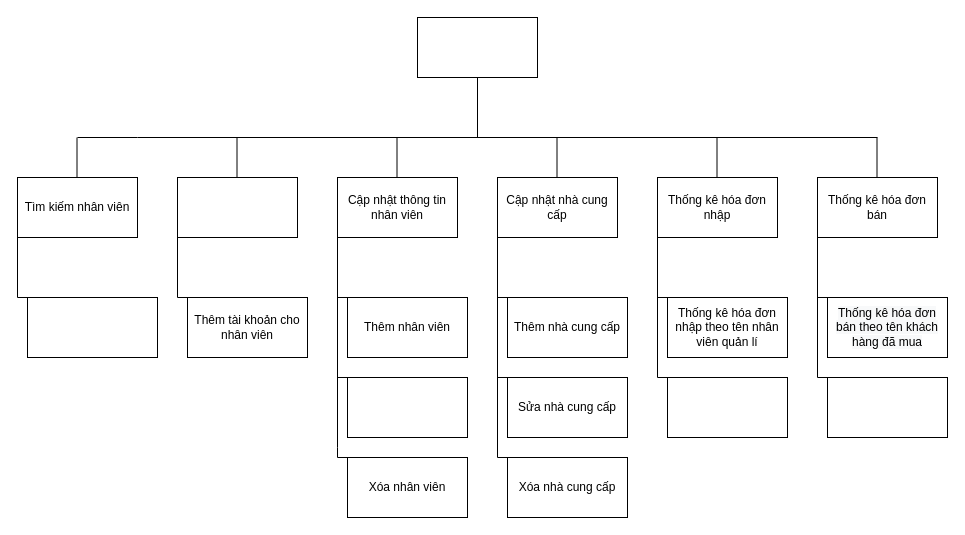
The diagram is 965 pixels wide and 535 high, and some of its shapes have lost their labels. The box of each missing label's shape, as (x1, y1, x2, y2) in pixels:
Quản lý cửa hàng máy tính: (416, 16, 538, 78)
Sửa nhân viên: (346, 376, 468, 438)
Thống kê hóa đơn bán theo ngày: (826, 376, 948, 438)
Thống kê hóa đơn nhập theo ngày: (666, 376, 788, 438)
Tìm kiếm nhân viên theo tên: (26, 296, 158, 358)
Tạo tài khoản mới: (176, 176, 298, 238)
